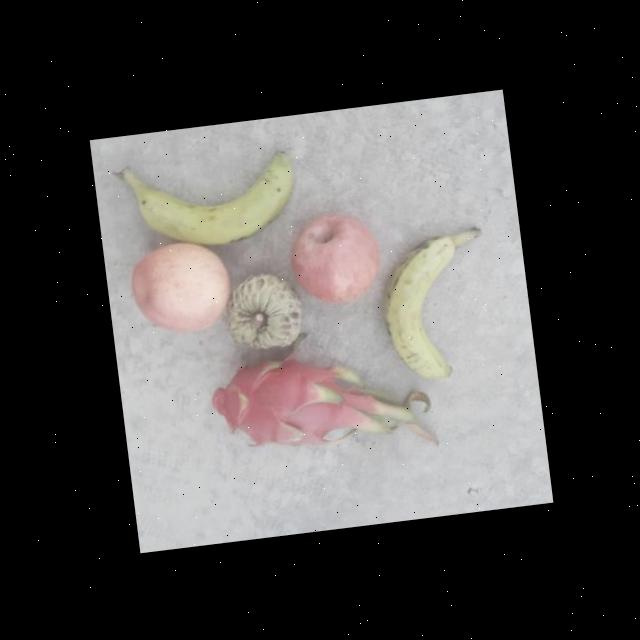Sakya fruit: (212, 264, 304, 356)
apple: (122, 234, 233, 341), (282, 206, 384, 309)
banana: (372, 217, 509, 388), (112, 145, 302, 257)
pitaya: (203, 344, 362, 459)
